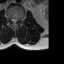CCS_normal: (13, 16, 15, 26)
LFS_stenosis: (17, 16, 19, 23)
LLS_normal: (15, 16, 17, 25)
RFS_stenosis: (9, 15, 11, 22)
RLS_normal: (11, 16, 13, 24)
